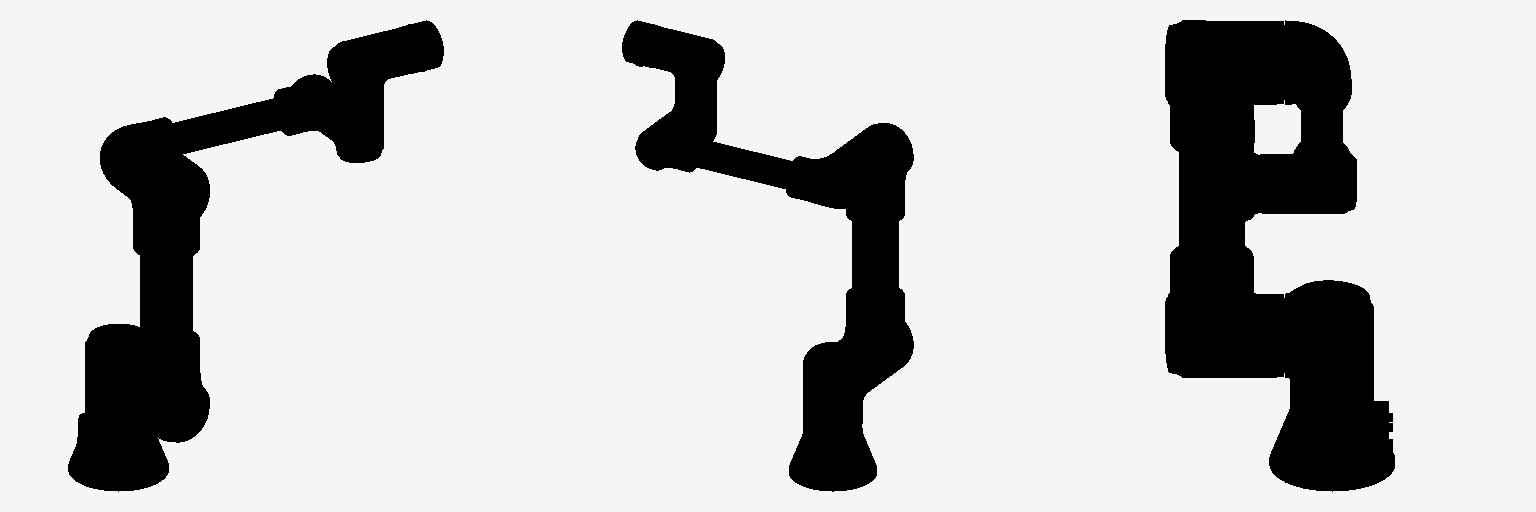
URDF robot description (rs_m90e7):
<?xml version="1.0" ?>
<!-- =================================================================================== -->
<!-- |    This document was autogenerated by xacro from ./rs_m90e7.urdf.xacro          | -->
<!-- |    EDITING THIS FILE BY HAND IS NOT RECOMMENDED                                 | -->
<!-- =================================================================================== -->
<robot name="rs_m90e7">
  <link name="base_link">
    <inertial>
      <origin rpy="0 0 0" xyz="0.00004 0.01193 0.05418"/>
      <mass value="0.91957"/>
      <inertia ixx=" 0.003109" ixy="-0.000002" ixz="-0.000001" iyy=" 0.002643" iyz="-0.000092" izz=" 0.003424"/>
    </inertial>
    <visual>
      <origin rpy="0 0 0" xyz="0 0 0"/>
      <geometry>
        <mesh filename="package://rs_m90e7_description/meshes/base_link.dae"/>
      </geometry>
      <material name="">
        <color rgba="0 0 0 1"/>
      </material>
    </visual>
    <collision>
      <origin rpy="0 0 0" xyz="0 0 0"/>
      <geometry>
        <mesh filename="package://rs_m90e7_description/meshes/base_link.stl"/>
      </geometry>
    </collision>
  </link>
  <link name="link1">
    <inertial>
      <origin rpy="0 0 0" xyz="-0.009177 0.089530 0.000000"/>
      <mass value="2.095055"/>
      <inertia ixx=" 0.006074" ixy="-0.000305" ixz=" 0.000000" iyy=" 0.004584" iyz=" 0.000000" izz=" 0.006717"/>
    </inertial>
    <visual>
      <origin rpy="0 0 0" xyz="0 0 0"/>
      <geometry>
        <mesh filename="package://rs_m90e7_description/meshes/link1.dae"/>
      </geometry>
      <material name="">
        <color rgba="0 0 0 1"/>
      </material>
    </visual>
    <collision>
      <origin rpy="0 0 0" xyz="0 0 0"/>
      <geometry>
        <mesh filename="package://rs_m90e7_description/meshes/link1.stl"/>
      </geometry>
    </collision>
  </link>
  <joint name="joint1" type="revolute">
    <origin rpy="1.5708 0 1.5708" xyz="0 0 0.10095"/>
    <parent link="base_link"/>
    <child link="link1"/>
    <axis xyz="0 1 0"/>
    <limit effort="0" lower="-6.2832" upper="6.2832" velocity="4.7124"/>
  </joint>
  <link name="link2">
    <inertial>
      <origin rpy="0 0 0" xyz="-0.21500 0.09444 0.00000"/>
      <mass value="6.55317"/>
      <inertia ixx=" 0.015891" ixy=" 0.000000" ixz=" 0.000000" iyy=" 0.206360" iyz=" 0.000000" izz=" 0.210906"/>
    </inertial>
    <visual>
      <origin rpy="0 0 0" xyz="0 0 0"/>
      <geometry>
        <mesh filename="package://rs_m90e7_description/meshes/link2.dae"/>
      </geometry>
      <material name="">
        <color rgba="0 0 0 1"/>
      </material>
    </visual>
    <collision>
      <origin rpy="0 0 0" xyz="0 0 0"/>
      <geometry>
        <mesh filename="package://rs_m90e7_description/meshes/link2.stl"/>
      </geometry>
    </collision>
  </link>
  <joint name="joint2" type="revolute">
    <origin rpy="3.1416 0 -1.5708" xyz="-0.06895 0.10315 0"/>
    <parent link="link1"/>
    <child link="link2"/>
    <axis xyz="0 -1 0"/>
    <limit effort="0" lower="-6.2832" upper="6.2832" velocity="4.7124"/>
  </joint>
  <link name="link3">
    <inertial>
      <origin rpy="0 0 0" xyz="-0.19905 0.05265 0.00000"/>
      <mass value="2.72253"/>
      <inertia ixx=" 0.003560" ixy=" -0.000889" ixz=" 0.000000" iyy=" 0.080167" iyz=" 0.000000" izz=" 0.081015"/>
    </inertial>
    <visual>
      <origin rpy="0 0 0" xyz="0 0 0"/>
      <geometry>
        <mesh filename="package://rs_m90e7_description/meshes/link3.dae"/>
      </geometry>
      <material name="">
        <color rgba="0 0 0 1"/>
      </material>
    </visual>
    <collision>
      <origin rpy="0 0 0" xyz="0 0 0"/>
      <geometry>
        <mesh filename="package://rs_m90e7_description/meshes/link3.stl"/>
      </geometry>
    </collision>
  </link>
  <joint name="joint3" type="revolute">
    <origin rpy="3.1416 -1.5708 0" xyz="-0.43 0 0"/>
    <parent link="link2"/>
    <child link="link3"/>
    <axis xyz="0 1 0"/>
    <limit effort="0" lower="-4.0492" upper="1.2566" velocity="7.1558"/>
  </joint>
  <link name="link4">
    <inertial>
      <origin rpy="0 0 0" xyz="0.015396 0.057512 0.000000"/>
      <mass value="0.832958"/>
      <inertia ixx=" 0.000897" ixy=" 0.000092" ixz=" 0.000000" iyy=" 0.001490" iyz=" 0.000000" izz=" 0.001595"/>
    </inertial>
    <visual>
      <origin rpy="0 0 0" xyz="0 0 0"/>
      <geometry>
        <mesh filename="package://rs_m90e7_description/meshes/link4.dae"/>
      </geometry>
      <material name="">
        <color rgba="0 0 0 1"/>
      </material>
    </visual>
    <collision>
      <origin rpy="0 0 0" xyz="0 0 0"/>
      <geometry>
        <mesh filename="package://rs_m90e7_description/meshes/link4.stl"/>
      </geometry>
    </collision>
  </link>
  <joint name="joint4" type="revolute">
    <origin rpy="3.1416 1.5708 0" xyz="-0.41 -0.0217 0"/>
    <parent link="link3"/>
    <child link="link4"/>
    <axis xyz="0 -1 0"/>
    <limit effort="16.9" lower="-6.2832" upper="6.2832" velocity="8.2903"/>
  </joint>
  <link name="link5">
    <inertial>
      <origin rpy="0 0 0" xyz="0.015396 0.057512 0.000000"/>
      <mass value="0.832958"/>
      <inertia ixx=" 0.000897" ixy=" 0.000092" ixz=" 0.000000" iyy=" 0.001490" iyz=" 0.000000" izz=" 0.001595"/>
    </inertial>
    <visual>
      <origin rpy="0 0 0" xyz="0 0 0"/>
      <geometry>
        <mesh filename="package://rs_m90e7_description/meshes/link5.dae"/>
      </geometry>
      <material name="">
        <color rgba="0 0 0 1"/>
      </material>
    </visual>
    <collision>
      <origin rpy="0 0 0" xyz="0 0 0"/>
      <geometry>
        <mesh filename="package://rs_m90e7_description/meshes/link5.stl"/>
      </geometry>
    </collision>
  </link>
  <joint name="joint5" type="revolute">
    <origin rpy="-1.5708 -1.5708 0" xyz="0.07565 0.0634 0"/>
    <parent link="link4"/>
    <child link="link5"/>
    <axis xyz="0 1 0"/>
    <limit effort="18.9" lower="-6.2832" upper="6.2832" velocity="8.2903"/>
  </joint>
  <link name="link6">
    <inertial>
      <origin rpy="0 0 0" xyz="0.000045 -0.035542 0.000000"/>
      <mass value="0.391580"/>
      <inertia ixx=" 0.000327" ixy=" 0.000000" ixz=" 0.000000" iyy=" 0.000360" iyz=" 0.000000" izz=" 0.000326"/>
    </inertial>
    <visual>
      <origin rpy="0 0 0" xyz="0 0 0"/>
      <geometry>
        <mesh filename="package://rs_m90e7_description/meshes/link6.dae"/>
      </geometry>
      <material name="">
        <color rgba="0 0 0 1"/>
      </material>
    </visual>
    <collision>
      <origin rpy="0 0 0" xyz="0 0 0"/>
      <geometry>
        <mesh filename="package://rs_m90e7_description/meshes/link6.stl"/>
      </geometry>
    </collision>
  </link>
  <joint name="joint6" type="revolute">
    <origin rpy="1.5708 -1.5708 0" xyz="0.08085 0.0634 0"/>
    <parent link="link5"/>
    <child link="link6"/>
    <axis xyz="0 1 0"/>
    <limit effort="10.2" lower="-6.2832" upper="6.2832" velocity="13.177"/>
  </joint>
  <link name="flange"/>
  <joint name="jointf" type="fixed">
    <origin rpy="0 1.5708 -1.5708" xyz="0 -0.0734 0"/>
    <parent link="link6"/>
    <child link="flange"/>
  </joint>
  <!-- ========================================= -->
</robot>

--- Render facts (derived) ---
3 views of the same robot in one strip: view 1: azimuth 30°, elevation 25°; view 2: azimuth 150°, elevation 25°; view 3: azimuth 270°, elevation 25° (orthographic).
Robot: rs_m90e7 — 8 links, 7 joints (6 revolute, 1 fixed); root link base_link; default pose: every joint at zero.
Visible links, largest first — view 1: link2, link3, base_link, link5, link1, link4, link6; view 2: link2, link3, link1, base_link, link5, link4, link6; view 3: link2, link3, link1, base_link, link4, link6, link5.
Link boxes in pixels (bbox=[...]): link2: bbox=[109, 132, 209, 442]; link3: bbox=[100, 74, 336, 185]; base_link: bbox=[68, 413, 168, 491]; link5: bbox=[327, 28, 412, 98]; link1: bbox=[85, 324, 143, 432]; link4: bbox=[325, 91, 383, 162]; link6: bbox=[397, 20, 443, 74]; link2: bbox=[835, 123, 913, 391]; link3: bbox=[635, 109, 874, 208]; link1: bbox=[803, 342, 874, 439]; base_link: bbox=[789, 428, 876, 491]; link5: bbox=[649, 28, 724, 89]; link4: bbox=[672, 82, 716, 141]; link6: bbox=[622, 20, 663, 67]; link2: bbox=[1165, 20, 1283, 377]; link3: bbox=[1263, 20, 1356, 213]; link1: bbox=[1284, 280, 1373, 418]; base_link: bbox=[1269, 401, 1394, 491]; link4: bbox=[1195, 147, 1262, 224]; link6: bbox=[1194, 94, 1254, 166]; link5: bbox=[1195, 60, 1253, 129].
Size in the robot's own frame: 0.6542 by 0.3294 by 0.8166 metres.
Meshes: 7 distinct files referenced, 7 mesh visuals loaded (7 Collada DAE).
